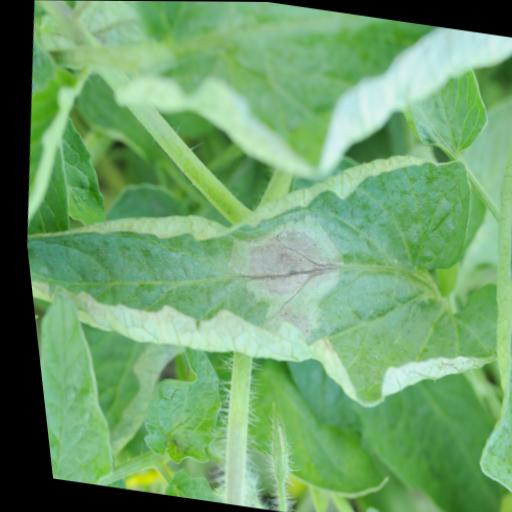Healthy: (25, 286, 128, 487)
Late Blight: (9, 107, 503, 424)
